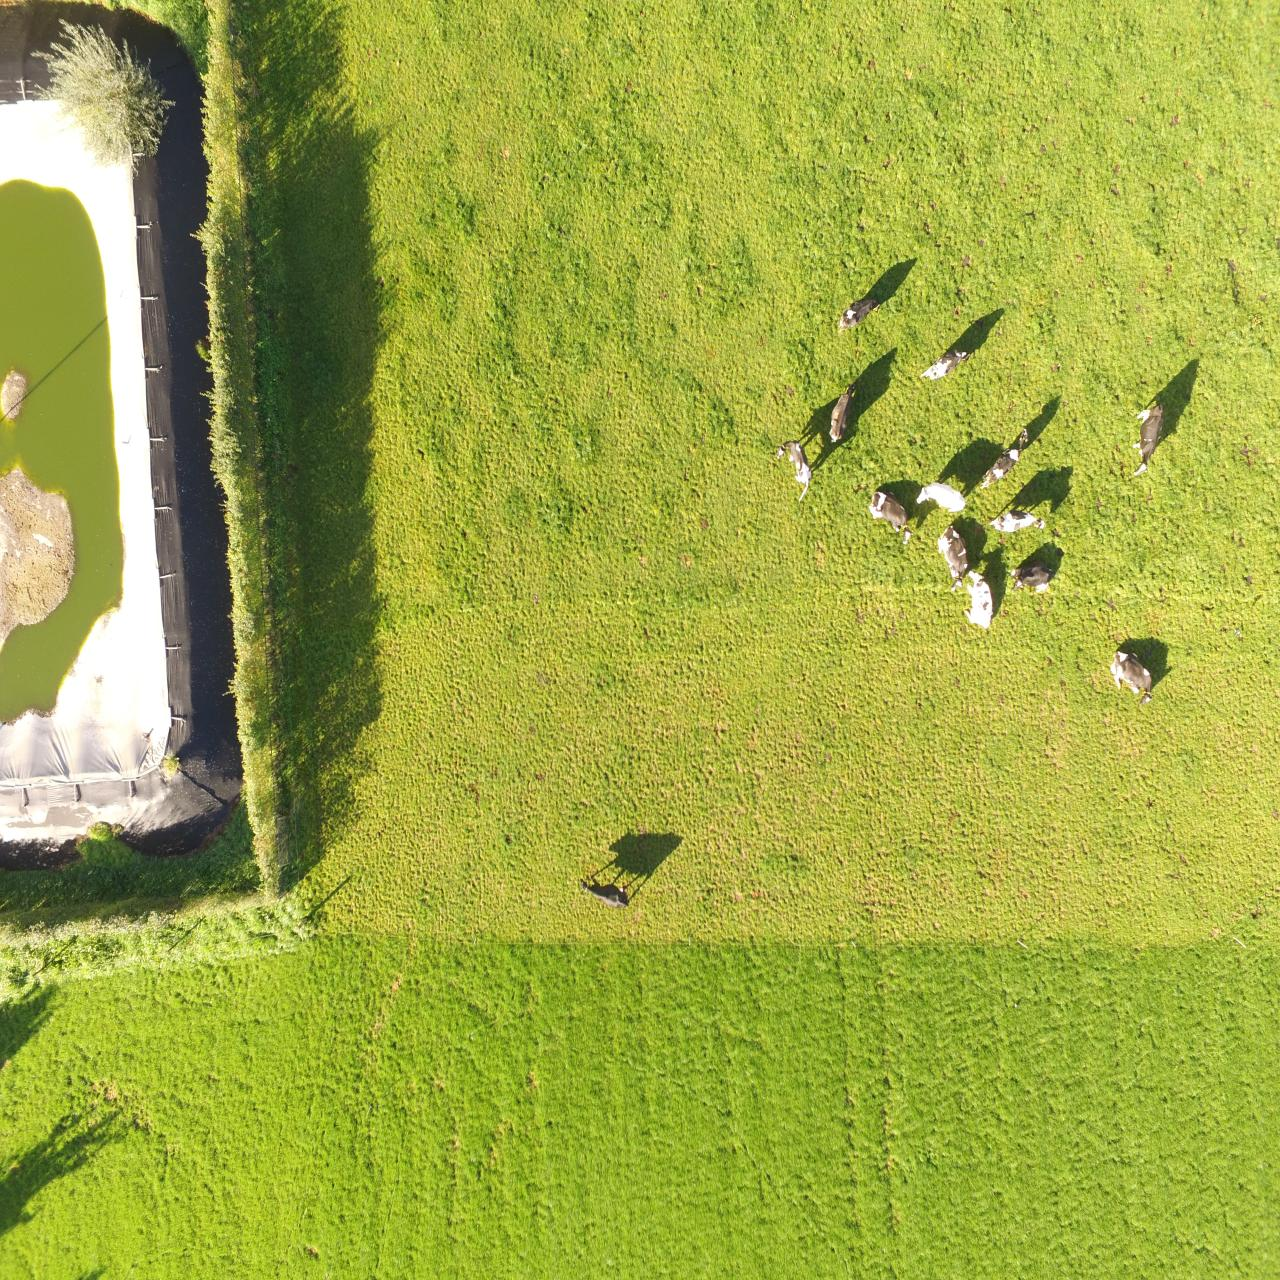cow: (979, 424, 1028, 489), (825, 380, 863, 452), (1107, 647, 1156, 701), (1129, 404, 1162, 472), (933, 523, 967, 587), (961, 568, 995, 633), (871, 490, 912, 543), (776, 441, 812, 498), (919, 343, 971, 383), (577, 876, 629, 913), (832, 293, 881, 333), (915, 482, 968, 518), (1008, 557, 1060, 592), (987, 510, 1053, 535)
